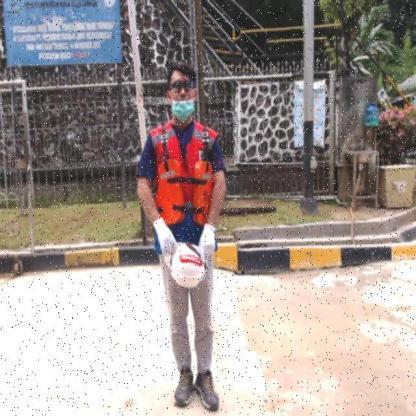boots: (194, 370, 220, 413), (174, 366, 192, 406)
gloves: (153, 218, 177, 256), (200, 226, 216, 263)
goggles: (170, 80, 194, 92)
helmet: (170, 242, 208, 288)
mask: (172, 100, 195, 122)
vest: (154, 160, 214, 224)
